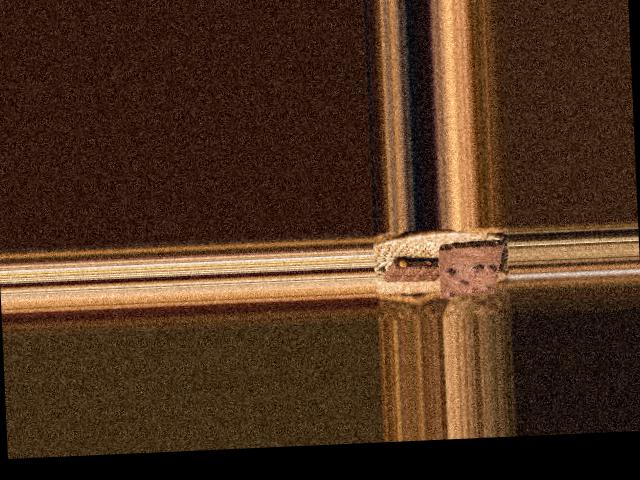chocolate: (433, 240, 506, 299)
